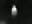person: (12, 5, 19, 18)
